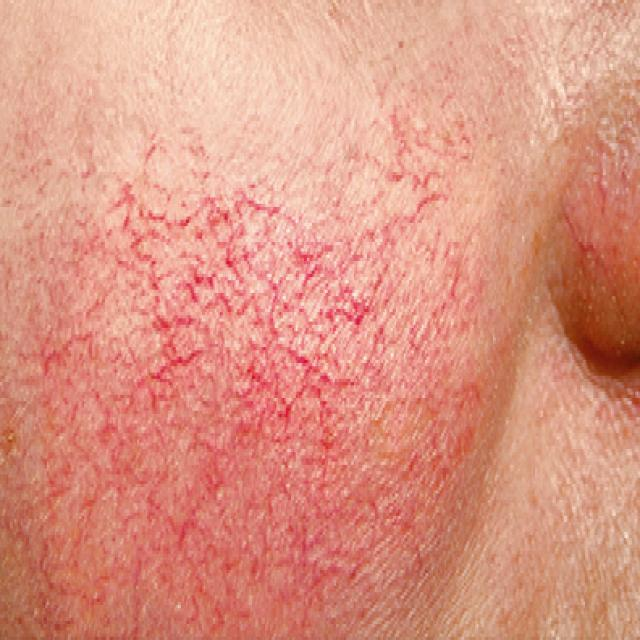Skin-Redness: (50, 112, 441, 555)
